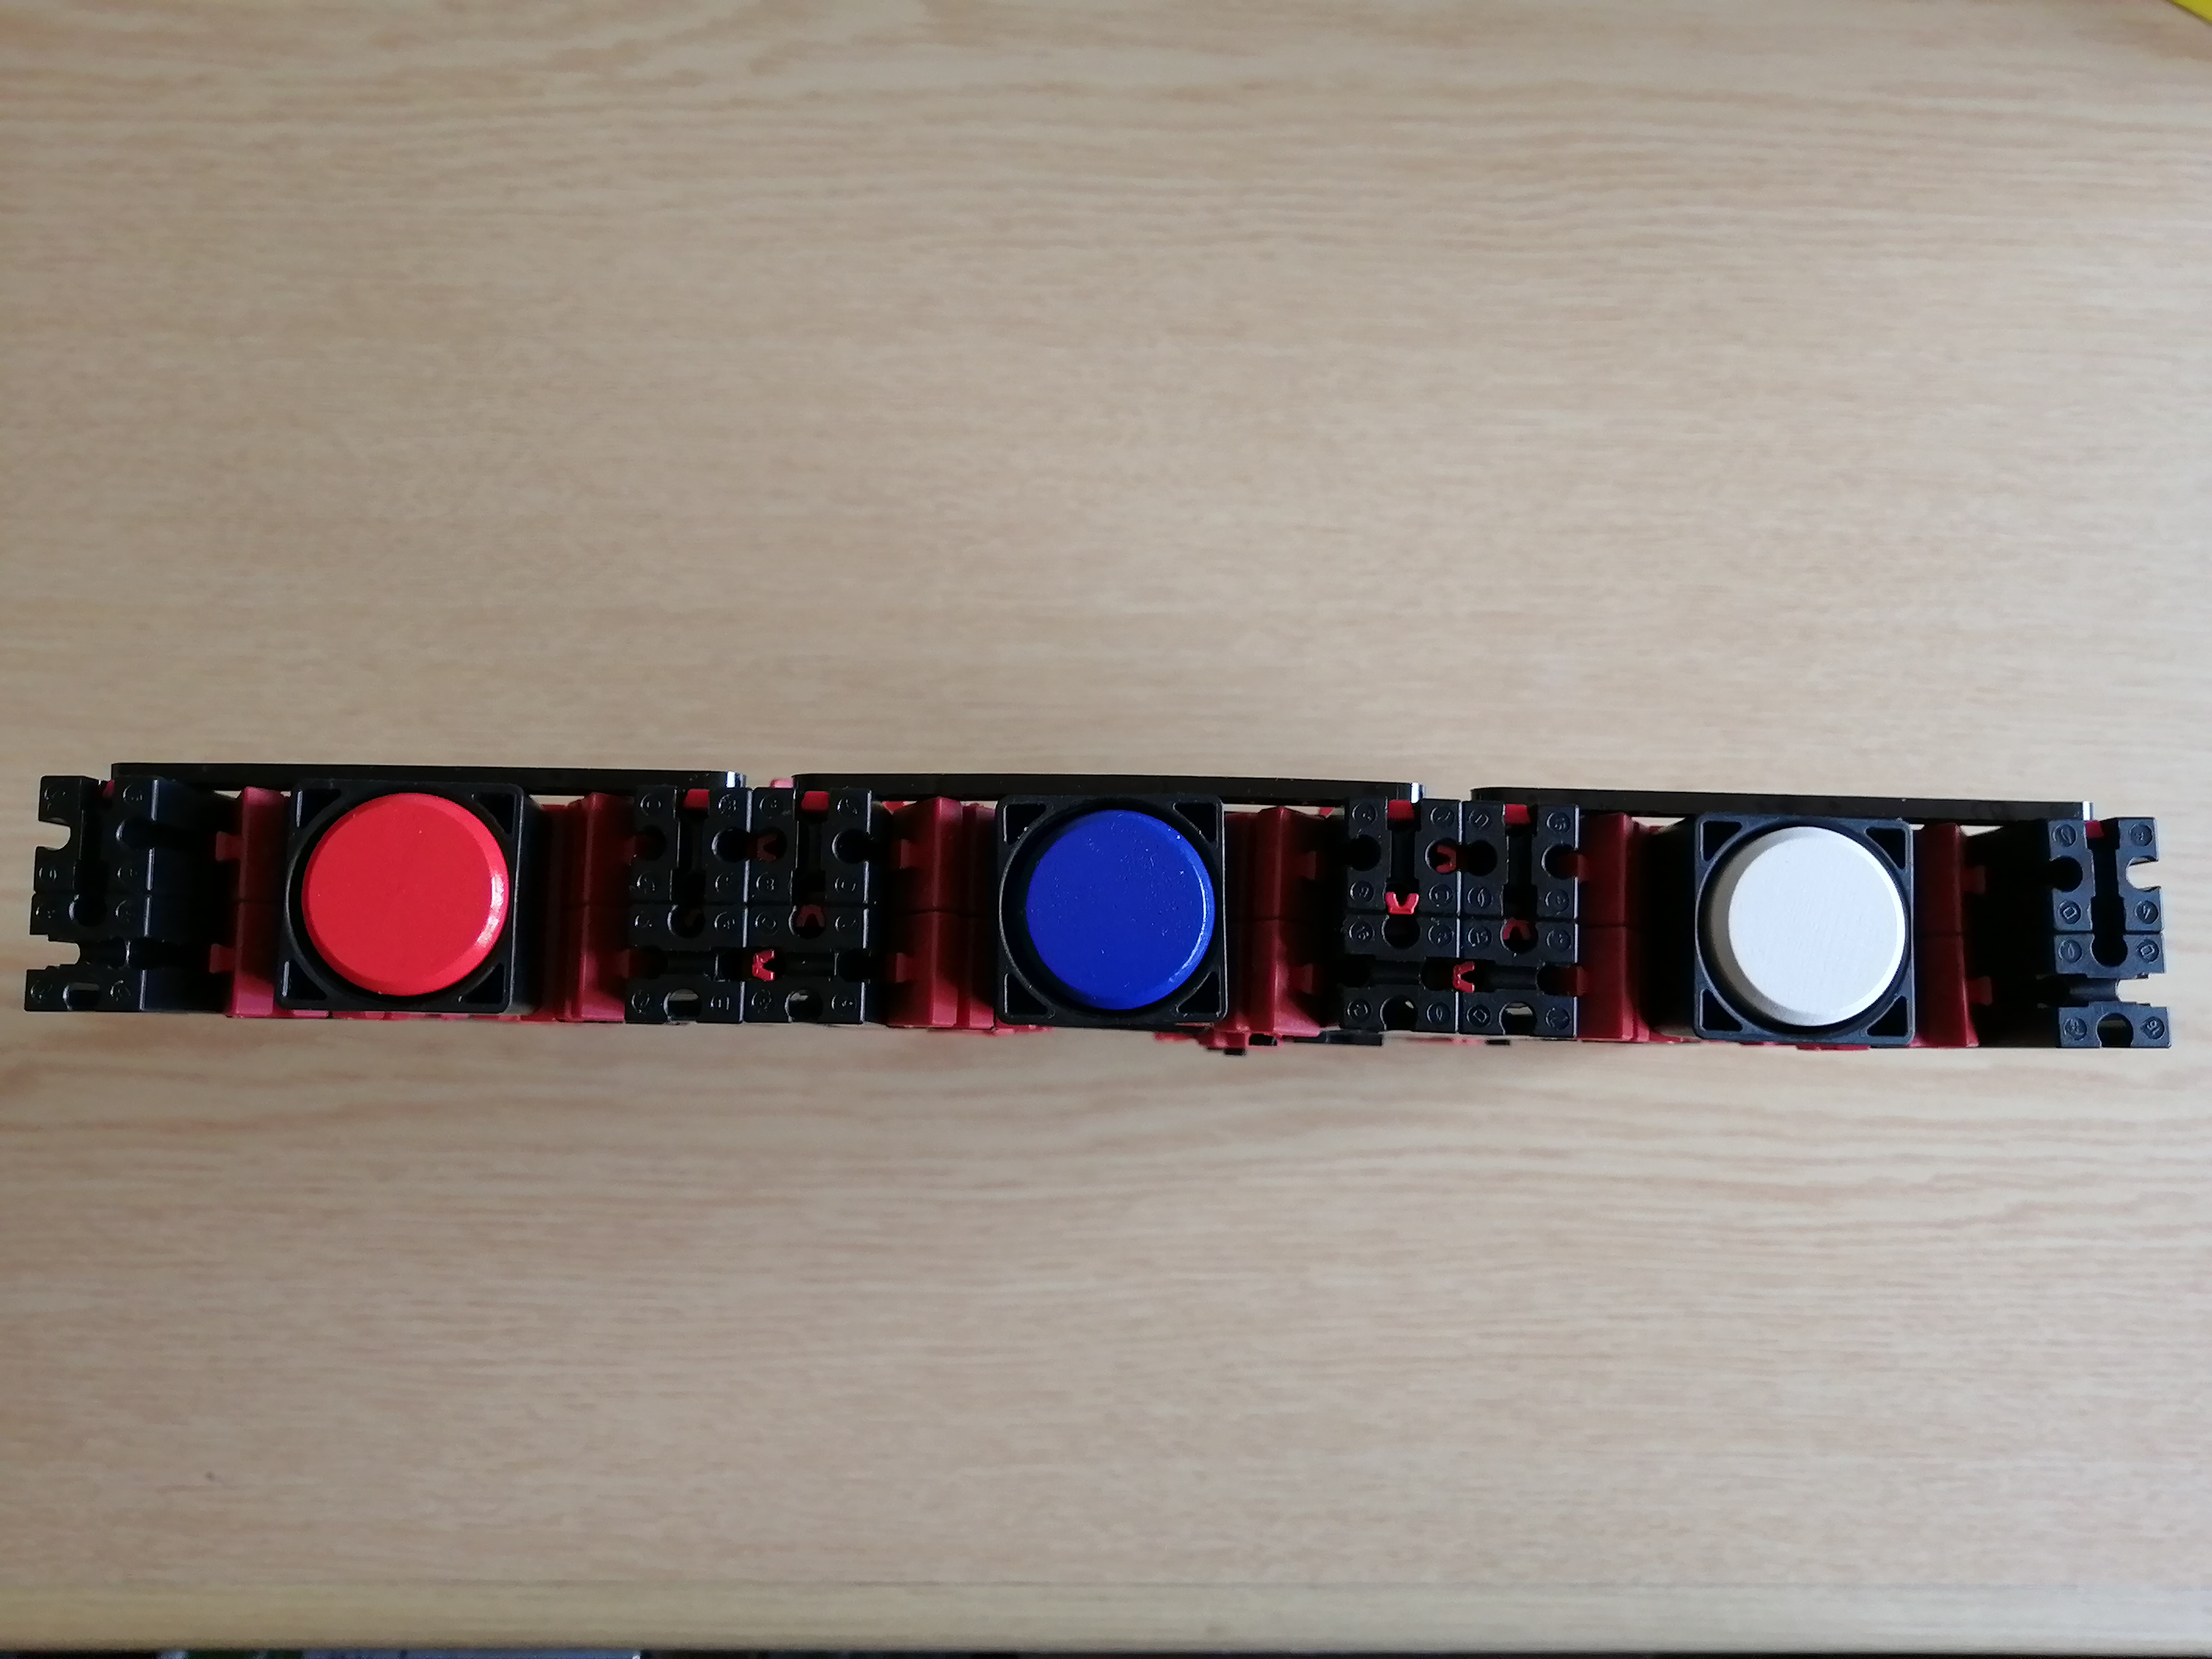Behaelter: (1660, 814, 1918, 1058), (993, 784, 1233, 1039), (277, 779, 535, 1012)
WerkStueck: (1719, 821, 1905, 1019), (307, 800, 498, 983), (1028, 819, 1216, 995)
